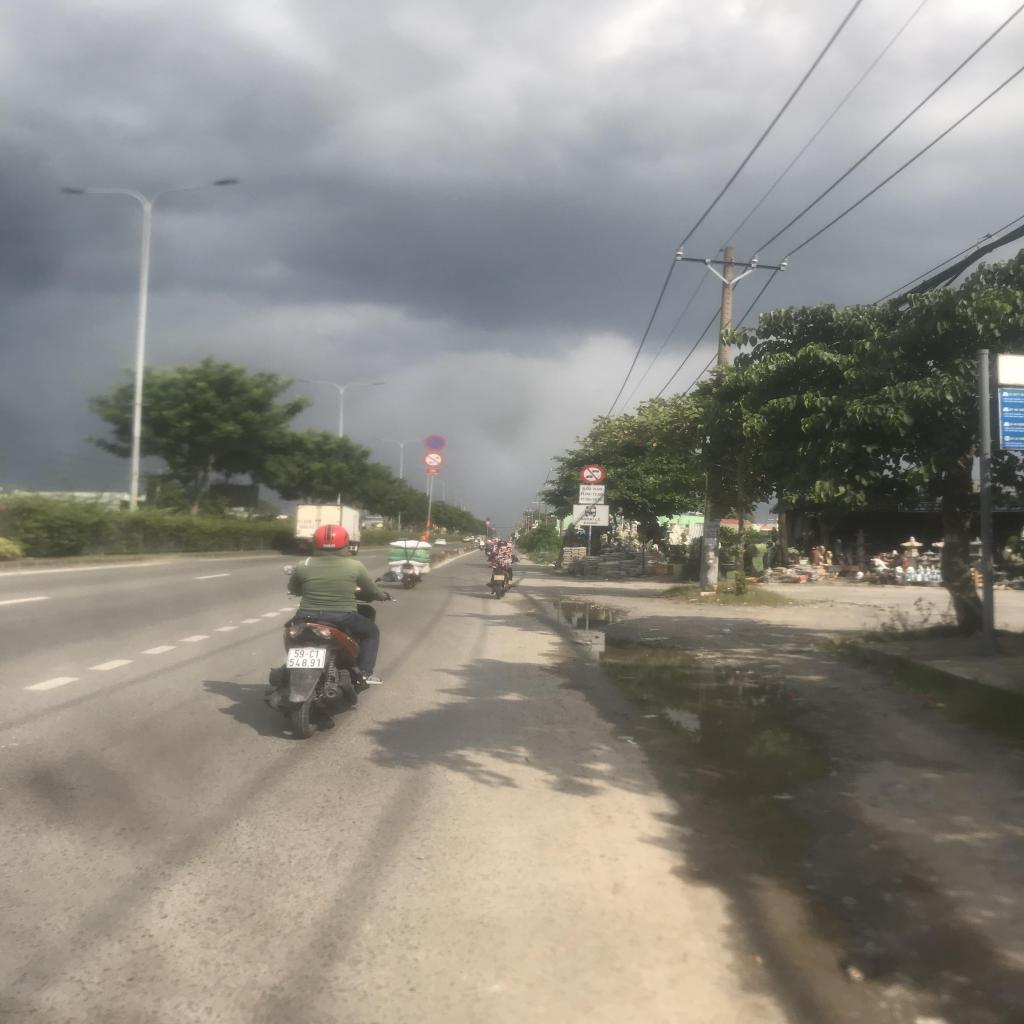cam_dung_xe_va_do_xe: (422, 434, 446, 452)
cam_o_to_tai_va_xe_khach: (578, 464, 606, 484)
cam_xe_2_banh_va_xe_3_banh_co_dong_co: (422, 451, 444, 468)
khac: (572, 504, 609, 526), (579, 485, 604, 504)
